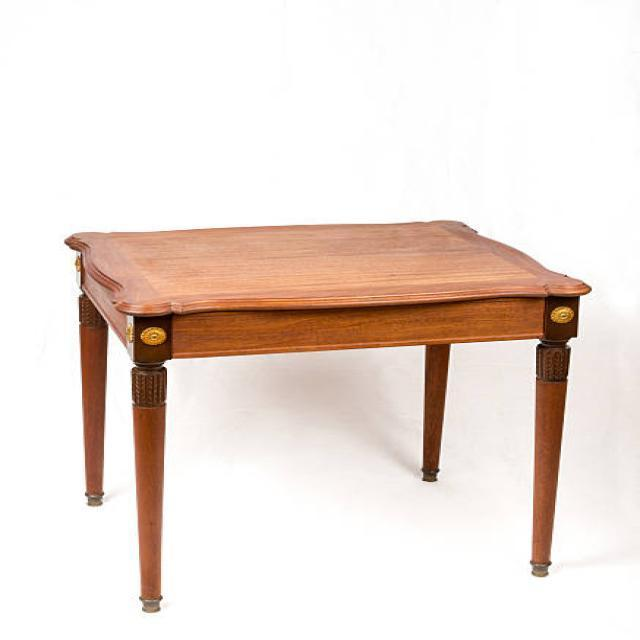table: (63, 218, 592, 612)
